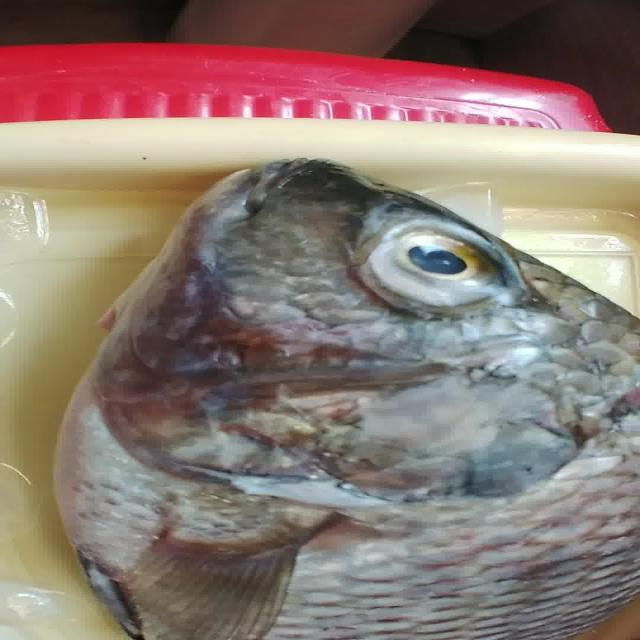Fresh: (300, 195, 536, 326)
